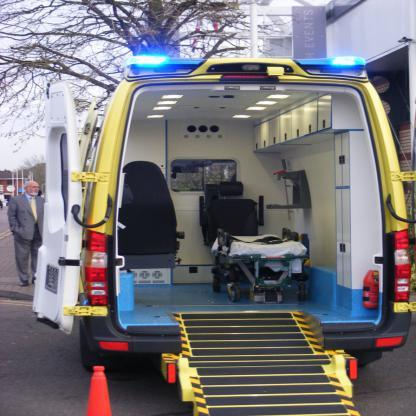Ambulance - v1 Ambulance last generate: (30, 52, 416, 416)
